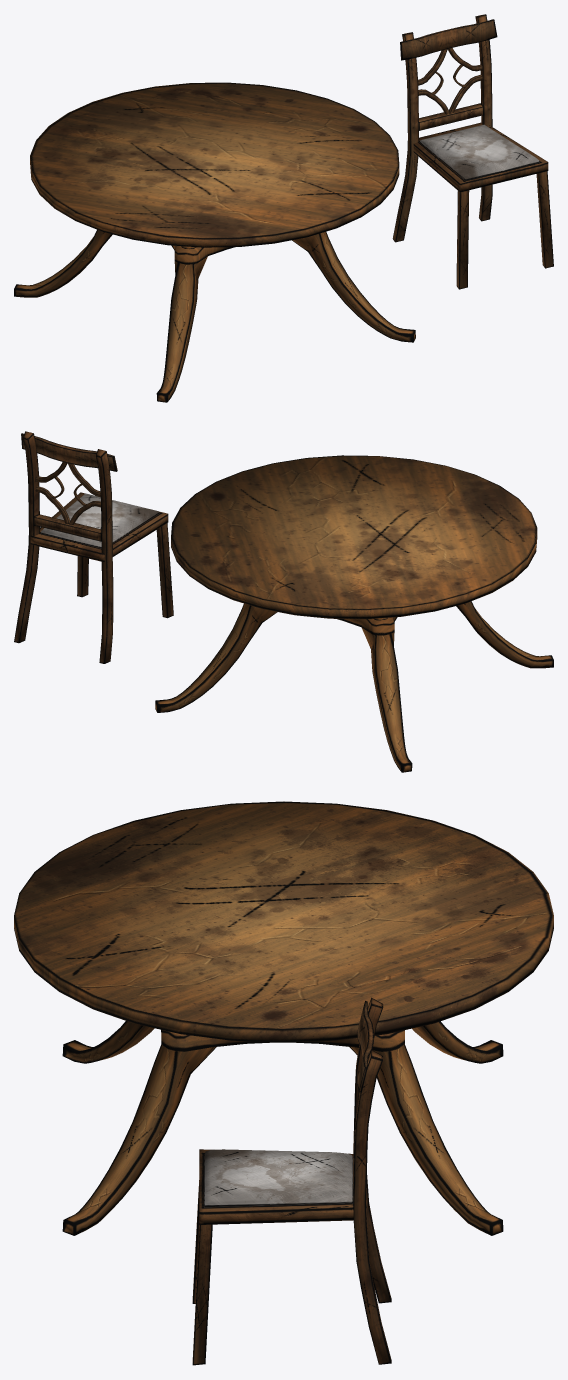
The model's file is DinnerTableSetup.fbx.
3 views of the same model, one above another, from view 1: azimuth 30°, elevation 25°; view 2: azimuth 150°, elevation 25°; view 3: azimuth 270°, elevation 25° (orthographic). The views are drawn at different scales.
Visible parts, largest first — view 1: DinnerTable, DinnerChair_regular; view 2: DinnerTable, DinnerChair_regular; view 3: DinnerTable, DinnerChair_regular.
Boxes of the visible parts, x1,y1,x2,y2 form: DinnerTable: (14, 82, 415, 402); DinnerChair_regular: (392, 14, 553, 289); DinnerTable: (155, 455, 553, 772); DinnerChair_regular: (14, 431, 173, 663); DinnerTable: (14, 801, 553, 1235); DinnerChair_regular: (192, 997, 391, 1365).
Bounding box in the file's own units: 2.7 × 1.15 × 1.84.
